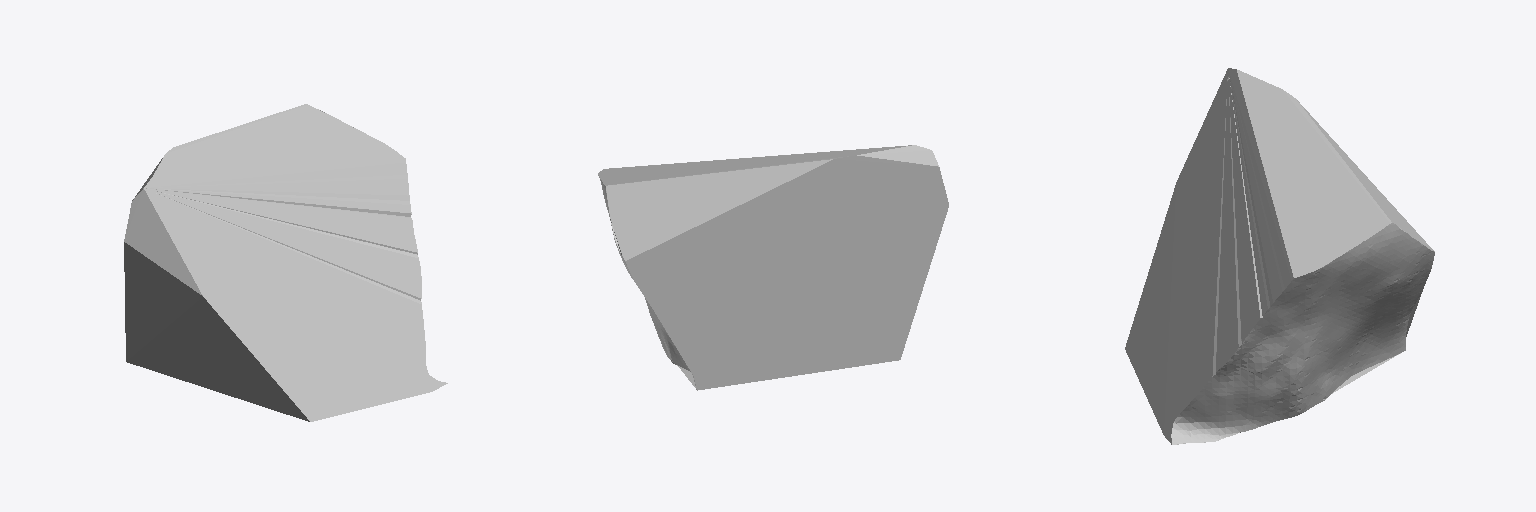
The model's file is low_cell_025.obj.
The picture shows the model from 3 angles: view 1: azimuth 30°, elevation 25°; view 2: azimuth 150°, elevation 25°; view 3: azimuth 270°, elevation 25°; orthographic projection.
Parts seen in each view (by area): view 1: low_cell.025_low_cell.024; view 2: low_cell.025_low_cell.024; view 3: low_cell.025_low_cell.024.
Part boxes in pixels (left/top/right/bottom): low_cell.025_low_cell.024: left=124, top=104, right=447, bottom=421; low_cell.025_low_cell.024: left=598, top=145, right=948, bottom=390; low_cell.025_low_cell.024: left=1125, top=68, right=1434, bottom=444.
Size of the model in its own units: 1.01 by 0.7745 by 0.8667.